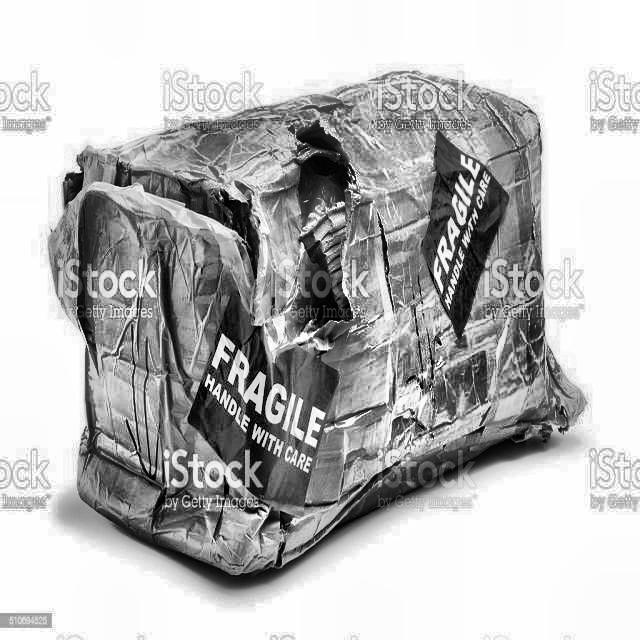box: (38, 61, 604, 594)
hole: (267, 124, 365, 347)
